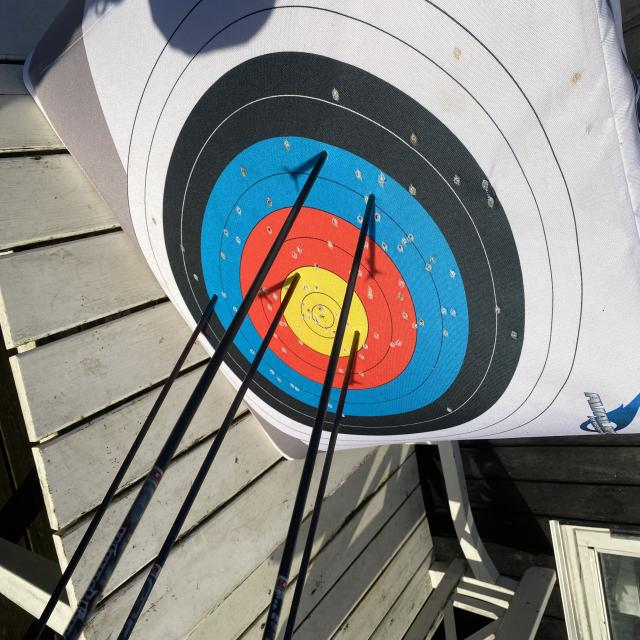Arrow_Blue: (309, 140, 341, 182), (355, 188, 392, 215), (200, 287, 228, 315)
Arrow_Yellow: (349, 323, 366, 351), (290, 263, 307, 289)
